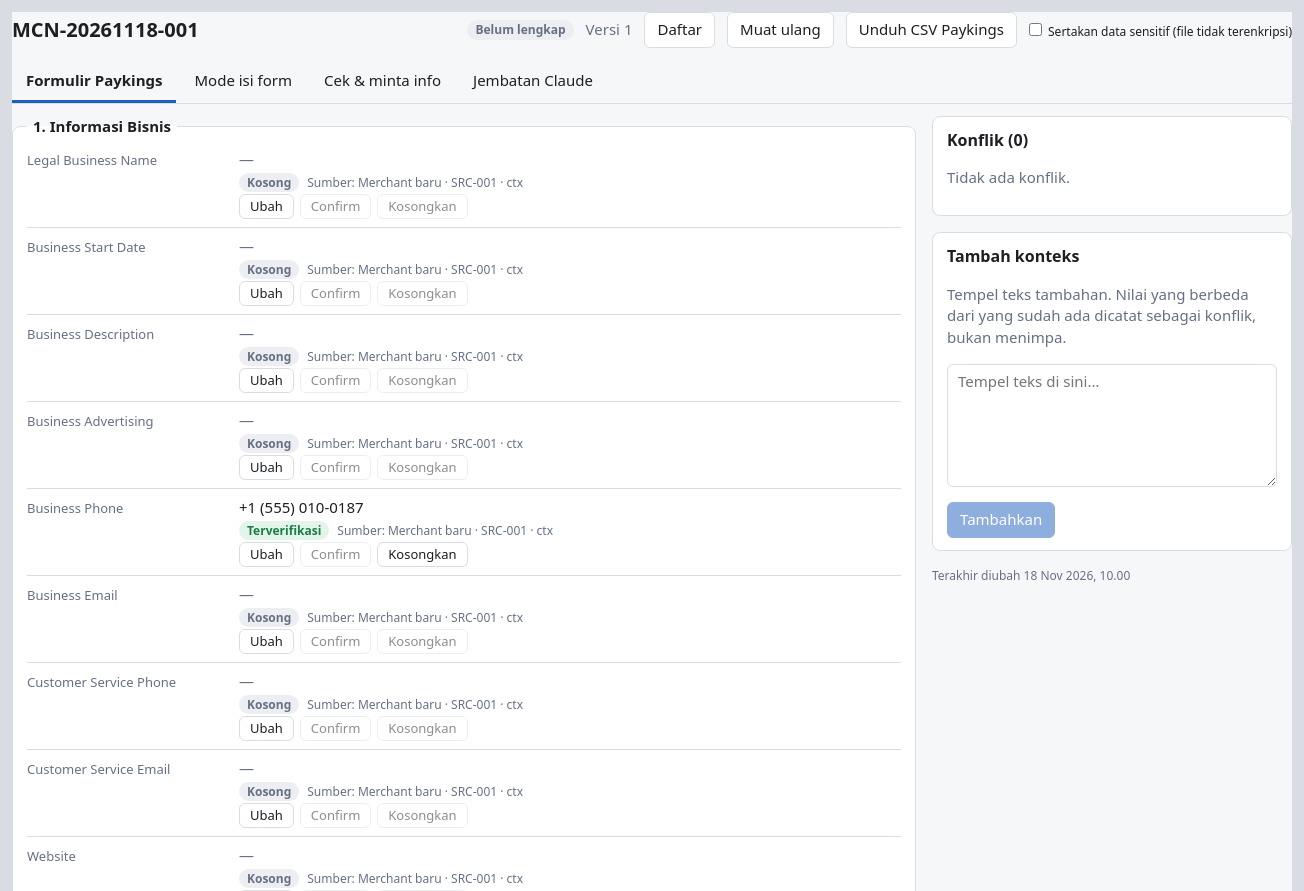
Test: Workspace › sends the loaded version; on 409 it shows the reload message and loads the record again
Click the button "Kosongkan" below "Business Phone" at (422,555), box [377,542,468,567]
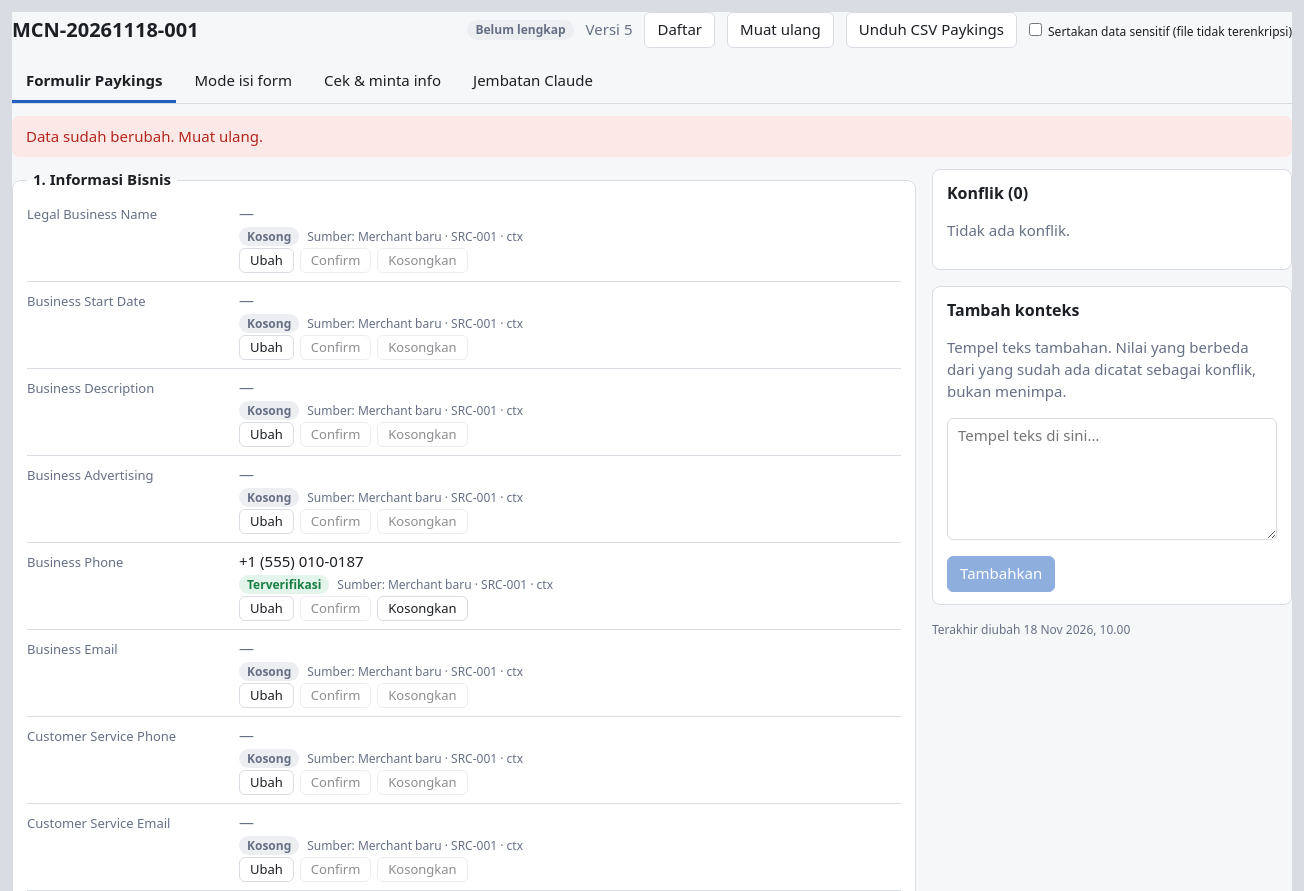
Now the text "Data sudah berubah. Muat ulang." is shown, box [26,126,263,147]
Now the text "Versi 5" is shown, box [586,19,632,41]
